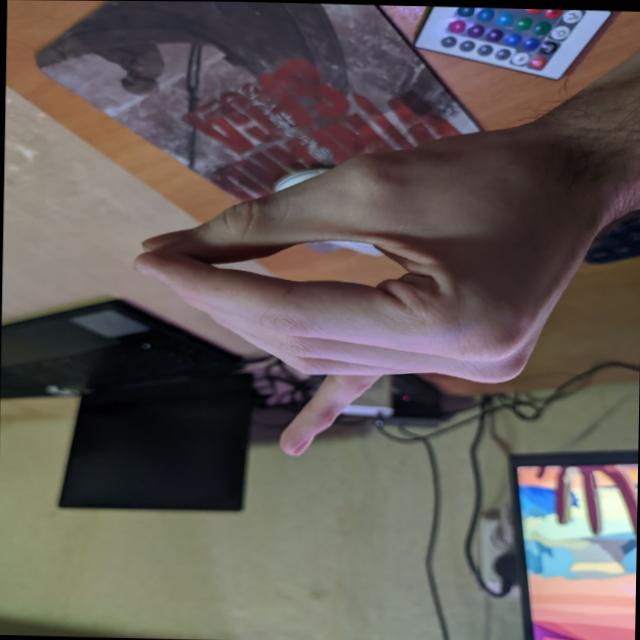iu: (128, 101, 550, 466)
